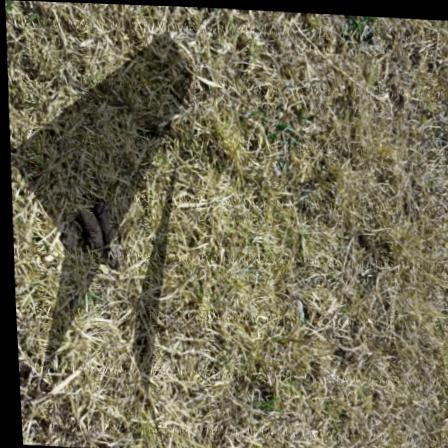dog-poop: (55, 195, 121, 264)
